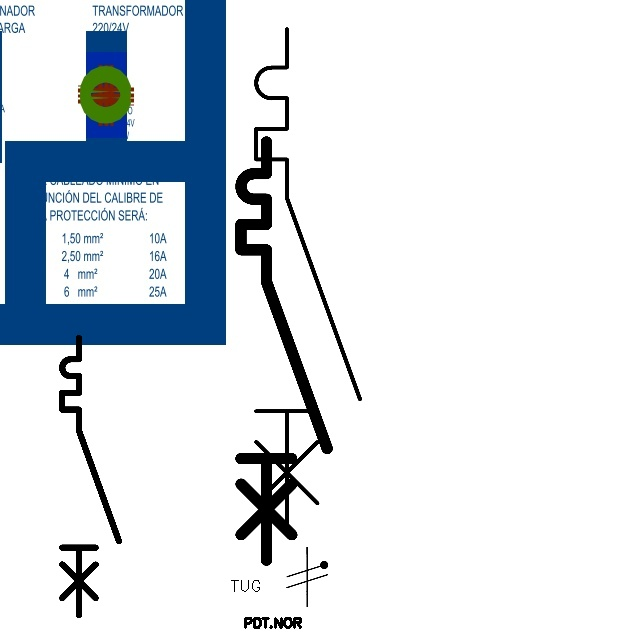interruptor_termomagnetico: (243, 16, 373, 547), (230, 131, 337, 571), (55, 331, 126, 622)
